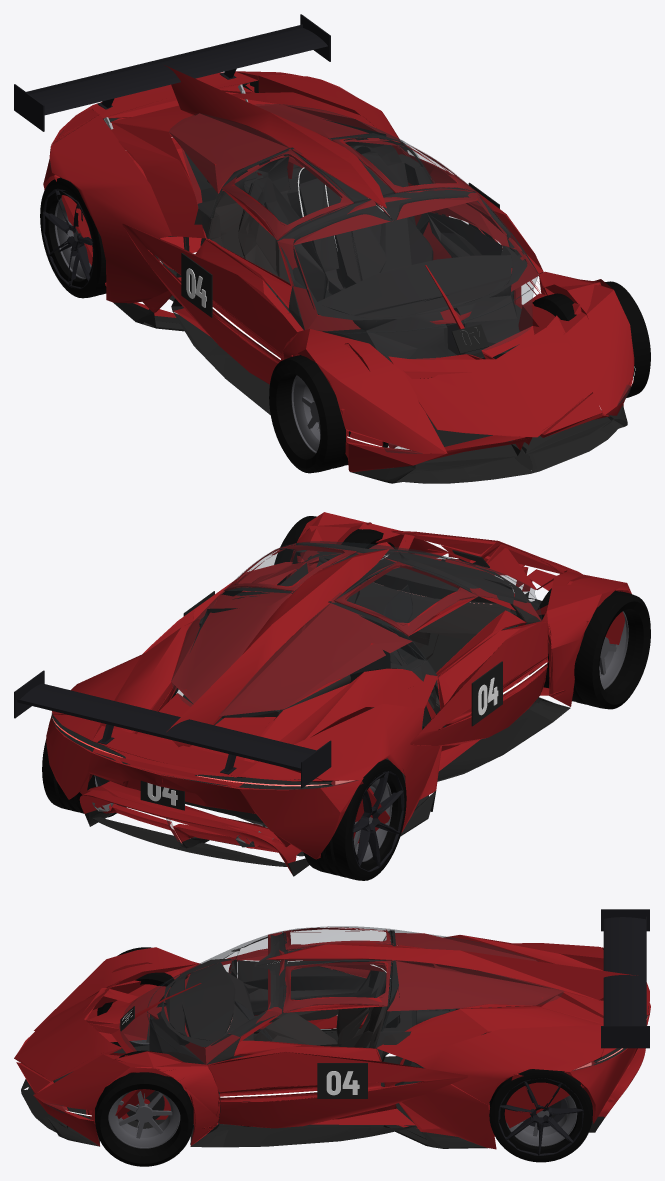
File: vanta_lod0_meshopt_ktx2.glb
The picture shows the model from 3 angles, top to bottom: view 1: azimuth 30°, elevation 25°; view 2: azimuth 150°, elevation 25°; view 3: azimuth 270°, elevation 25°; orthographic projection. The views are drawn at different scales.
Parts seen in each view (by area): view 1: Body, Wheel_FR, Wheel_RR, Wheel_FL; view 2: Body, Wheel_FR, Wheel_RR, Wheel_FL, Wheel_RL; view 3: Body, Wheel_FL, Wheel_RL, Wheel_FR.
Boxes of the visible parts, box(x1,y1,x2,y2) form: Body: box(14, 14, 635, 483); Wheel_FR: box(269, 355, 388, 473); Wheel_RR: box(40, 177, 106, 298); Wheel_FL: box(532, 281, 650, 397); Body: box(14, 512, 631, 876); Wheel_FR: box(529, 588, 650, 709); Wheel_RR: box(303, 759, 406, 880); Wheel_FL: box(274, 516, 394, 585); Wheel_RL: box(42, 739, 119, 817); Body: box(14, 909, 650, 1155); Wheel_FL: box(95, 1050, 193, 1166); Wheel_RL: box(489, 1069, 592, 1162); Wheel_FR: box(97, 947, 187, 1046).
Bounding box in the file's own units: 2.25 × 1.24 × 4.54.
Materials: 6 (1 with a texture image).
